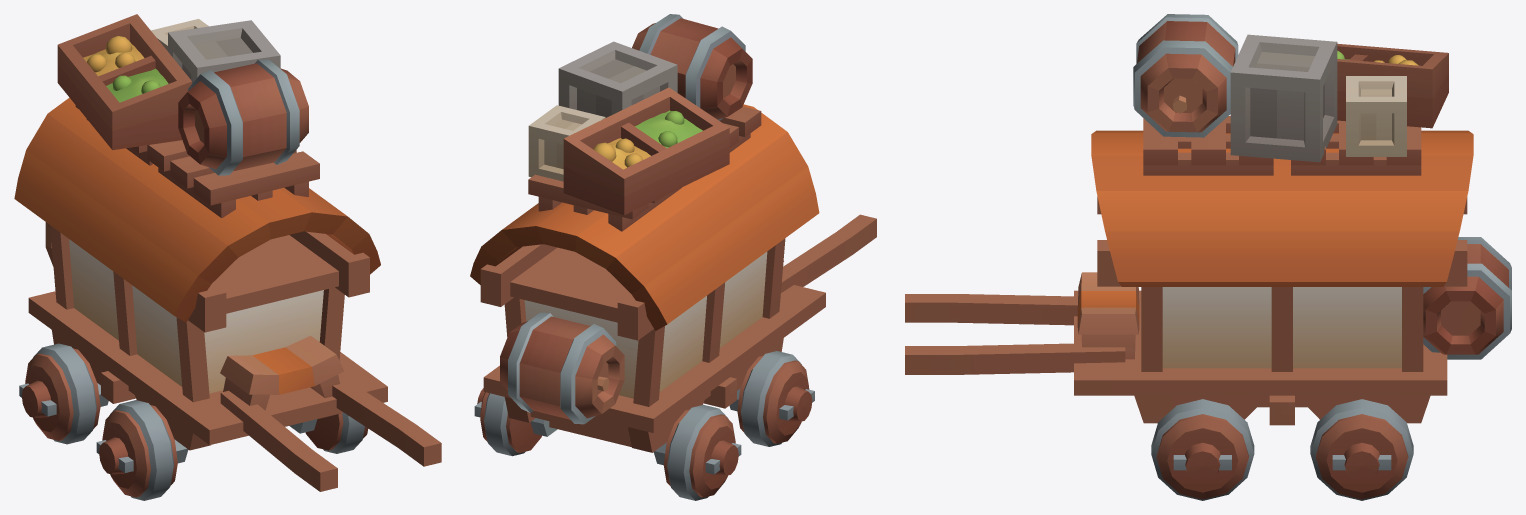
The model's file is cart_merchant.glb.
3 renders of one model, left to right at view 1: azimuth 30°, elevation 25°; view 2: azimuth 150°, elevation 25°; view 3: azimuth 270°, elevation 25°, orthographic. The views are drawn at different scales.
Parts seen in each view (by area): view 1: cart_merchant, cart_marchant_axle_front, cart_merchant_axle_rear; view 2: cart_merchant, cart_merchant_axle_rear, cart_marchant_axle_front; view 3: cart_merchant, cart_marchant_axle_front, cart_merchant_axle_rear.
Boxes of the visible parts, left/top/right/bottom form: cart_merchant: left=14, top=14, right=441, bottom=491; cart_marchant_axle_front: left=96, top=400, right=368, bottom=500; cart_merchant_axle_rear: left=19, top=343, right=108, bottom=444; cart_merchant: left=470, top=14, right=876, bottom=452; cart_merchant_axle_rear: left=474, top=388, right=741, bottom=500; cart_marchant_axle_front: left=729, top=351, right=814, bottom=446; cart_merchant: left=905, top=14, right=1511, bottom=425; cart_marchant_axle_front: left=1151, top=399, right=1254, bottom=500; cart_merchant_axle_rear: left=1310, top=399, right=1413, bottom=500.
Size of the model in its own units: 0.7078 by 1.06 by 1.4.
Materials: 1 (1 with a texture image).
